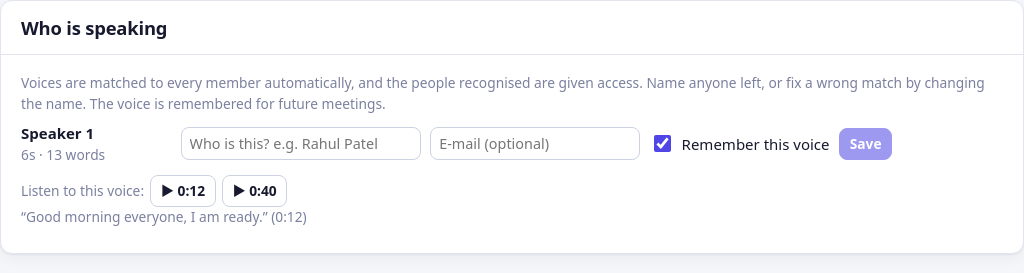
Test: hearing who an unnamed speaker is › the button turns into stop while playing, and stops when pressed again
Step 1. Click the button named "Play Speaker 1 at 0:12" → click(183, 191), box [150, 175, 216, 207]
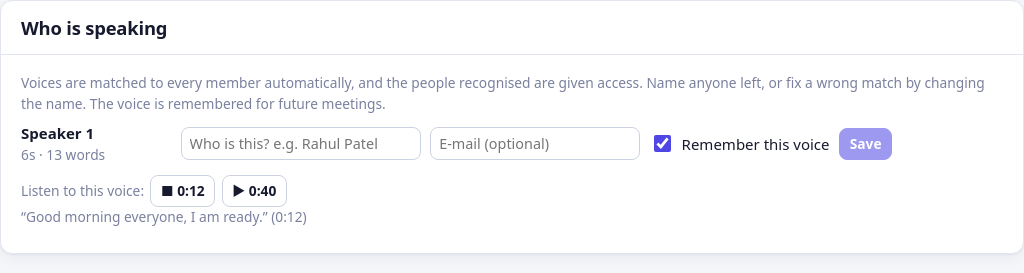
Expected: the button named "Stop Speaker 1 at 0:12" is pressed
Step 2. Click the button named "Stop Speaker 1 at 0:12" → click(183, 191), box [150, 175, 215, 207]
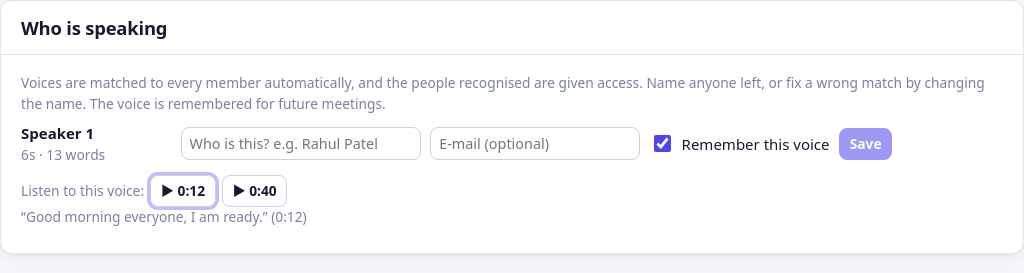
Expected: the button named "Play Speaker 1 at 0:12" is shown, [150, 175, 216, 207]
